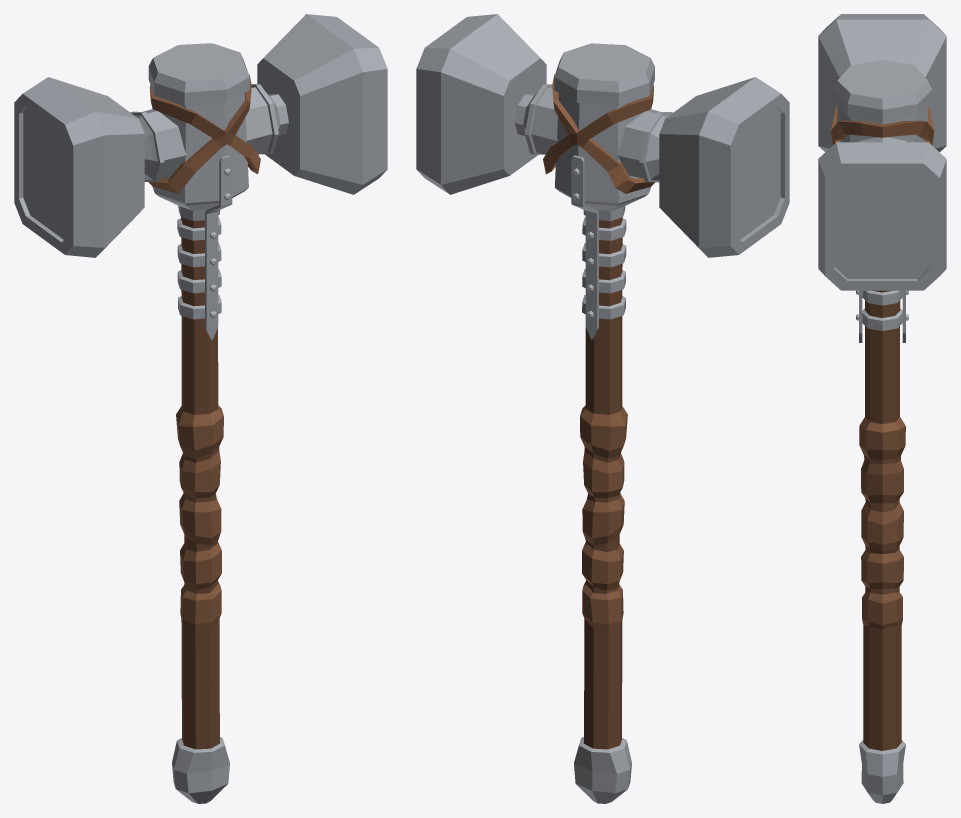
File: hammer.glb
3 renders of one model, left to right at view 1: azimuth 30°, elevation 25°; view 2: azimuth 150°, elevation 25°; view 3: azimuth 270°, elevation 25°, orthographic. The views are drawn at different scales.
Visible parts, largest first — view 1: Hammer_Double; view 2: Hammer_Double; view 3: Hammer_Double.
Part boxes in pixels (x1,y1,x2,y2): Hammer_Double: (14,14,387,803); Hammer_Double: (416,14,789,803); Hammer_Double: (818,14,946,803).
Size of the model in its own units: 2.22 by 4.97 by 0.8057.
